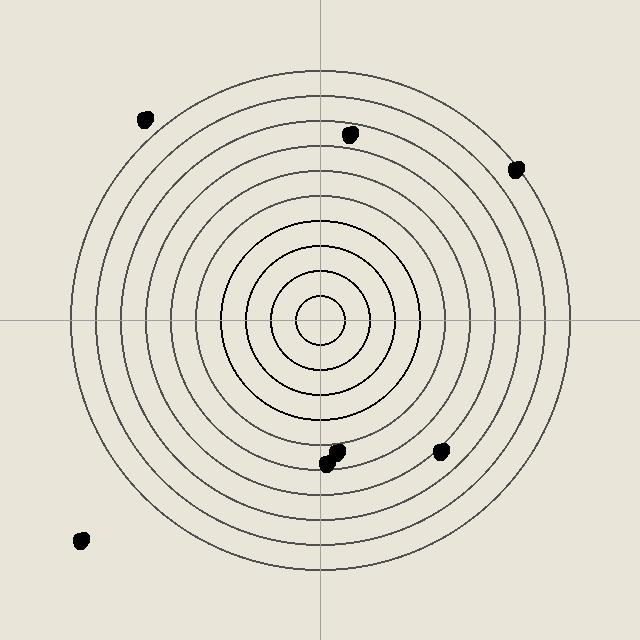random_scatter: (316, 453, 336, 473), (339, 124, 359, 144), (70, 530, 90, 550), (326, 442, 346, 462), (134, 109, 154, 129), (430, 441, 450, 461), (505, 159, 525, 179)
